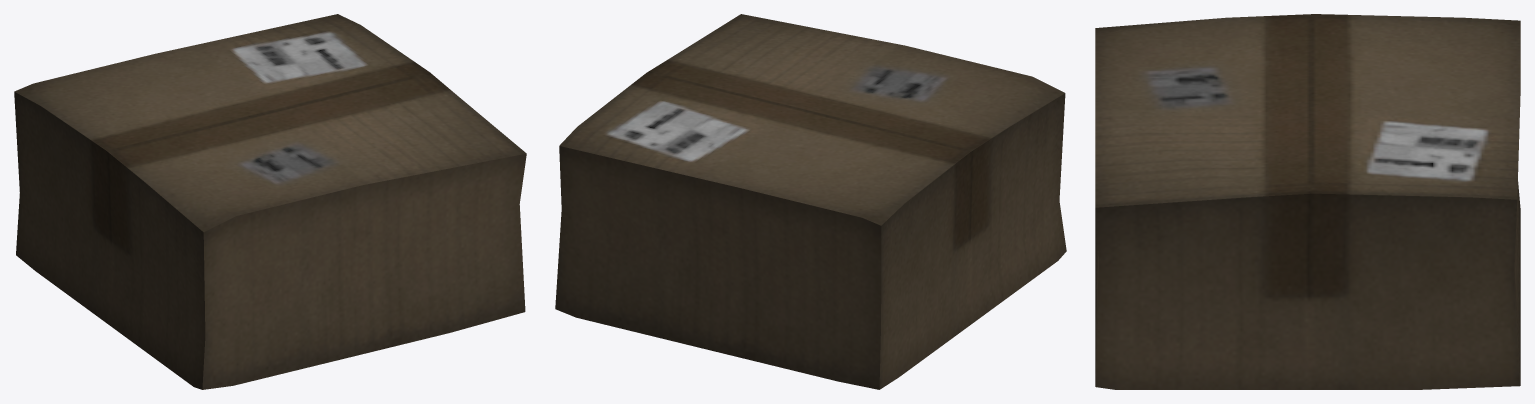
Rendered from cardboard_box_1.dae.
3 views of the same model, side by side, from view 1: azimuth 30°, elevation 25°; view 2: azimuth 150°, elevation 25°; view 3: azimuth 270°, elevation 25° (orthographic). The views are drawn at different scales.
Parts seen in each view (by area): view 1: cardboard_box_1; view 2: cardboard_box_1; view 3: cardboard_box_1.
Boxes of the visible parts, box(x1,y1,x2,y2) form: cardboard_box_1: box(14, 14, 526, 389); cardboard_box_1: box(555, 14, 1066, 389); cardboard_box_1: box(1095, 14, 1520, 389).
Bounding box in the file's own units: 0.7269 × 0.72 × 0.367.
1 material, 1 textured.
